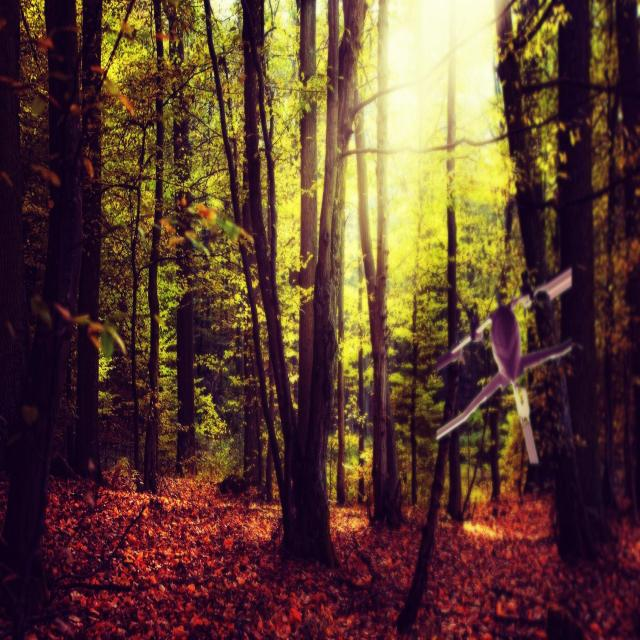airplane: (429, 267, 572, 460)
